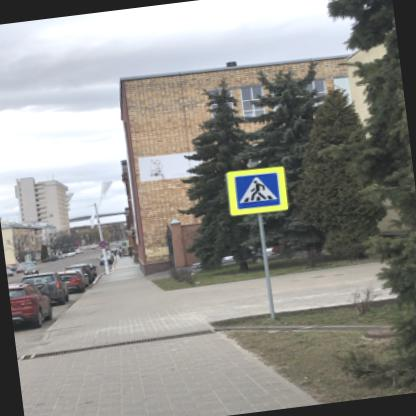crosswalk: (230, 169, 280, 210)
